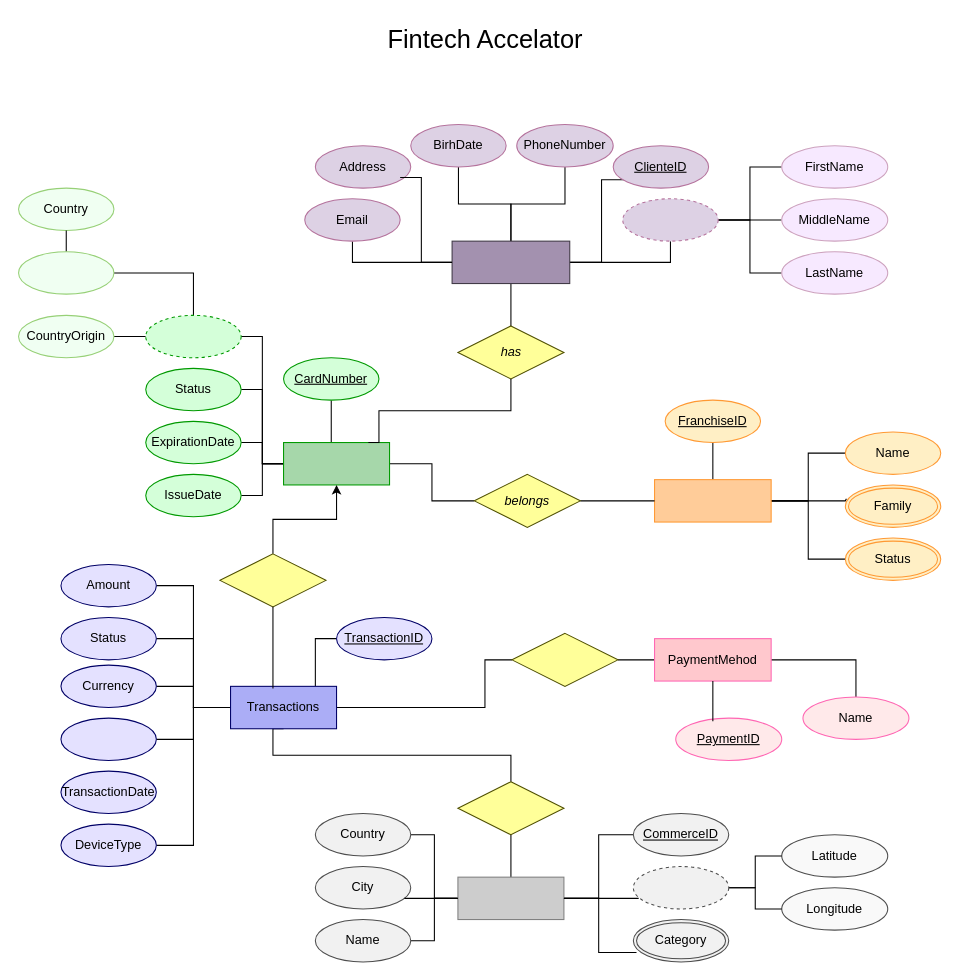
The diagram is 959 pixels wide and 980 high, and some of its shapes have lost their labels. Each missing label, with the centre of its shape:
"Channel" belongs at pixel 108 739.
"Clients" belongs at pixel 510 262.
"Commerce" belongs at pixel 510 898.
"CreditCards" belongs at pixel 336 463.
"Franchises" belongs at pixel 712 500.
"Franquise" belongs at pixel 193 336.
"FullName" belongs at pixel 670 219.
"Geographic Coordinates" belongs at pixel 680 887.
"IssueBanker" belongs at pixel 65 272.
"linked" belongs at pixel 510 808.
"register" belongs at pixel 272 580.
"used" belongs at pixel 564 659.
